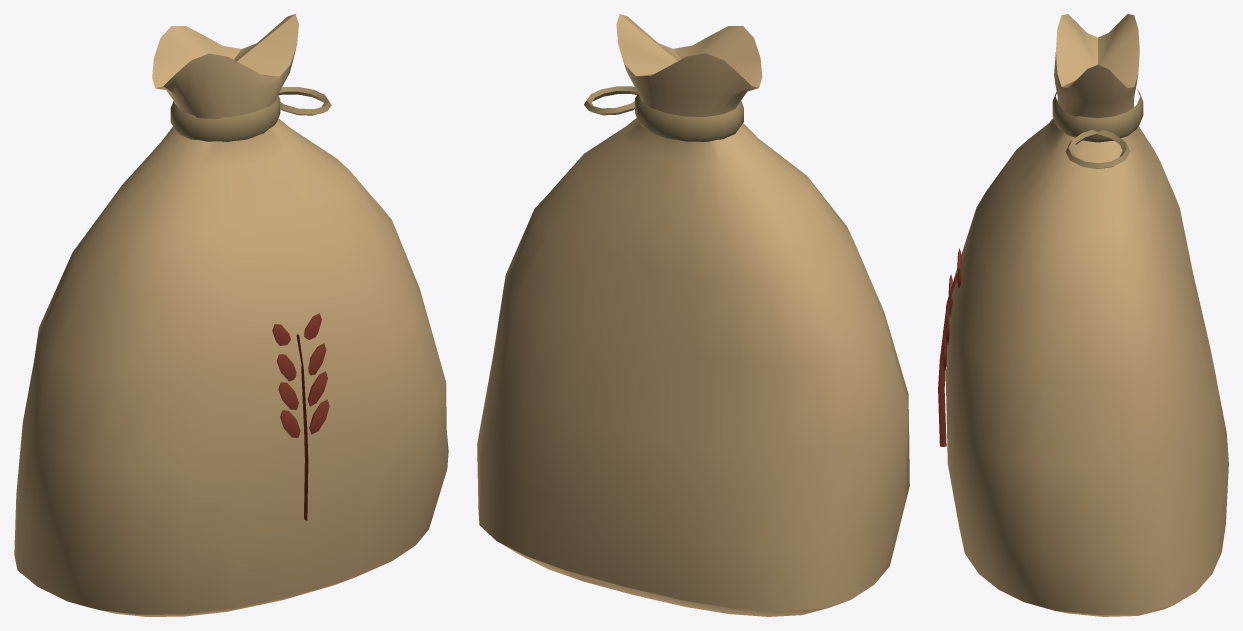
Rendered from flour_sack.glb.
The picture shows the model from 3 angles, left to right: view 1: azimuth 30°, elevation 25°; view 2: azimuth 150°, elevation 25°; view 3: azimuth 270°, elevation 25°; orthographic projection. The views are drawn at different scales.
Parts seen in each view (by area): view 1: flour_sack; view 2: flour_sack; view 3: flour_sack.
Boxes of the visible parts, x1,y1,x2,y2 form: flour_sack: (14, 14, 448, 616); flour_sack: (477, 14, 909, 616); flour_sack: (938, 14, 1228, 616).
Bounding box in the file's own units: 0.4635 × 0.6 × 0.3051.
